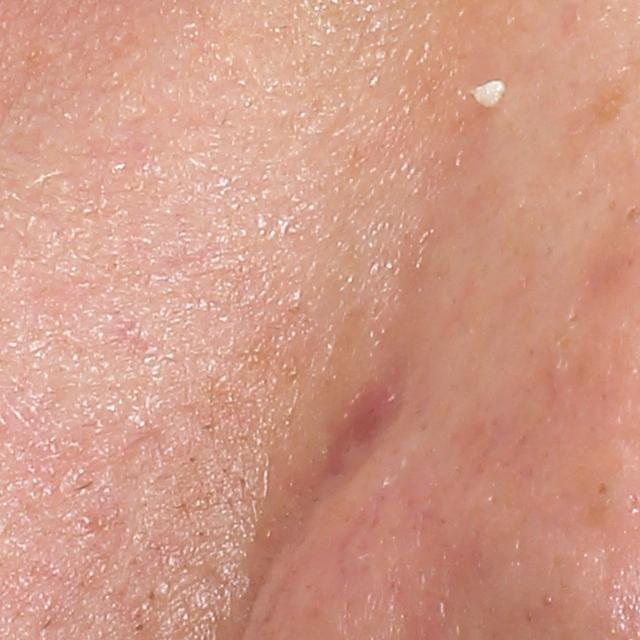comedo: (595, 480, 608, 497)
other: (463, 73, 507, 112)
